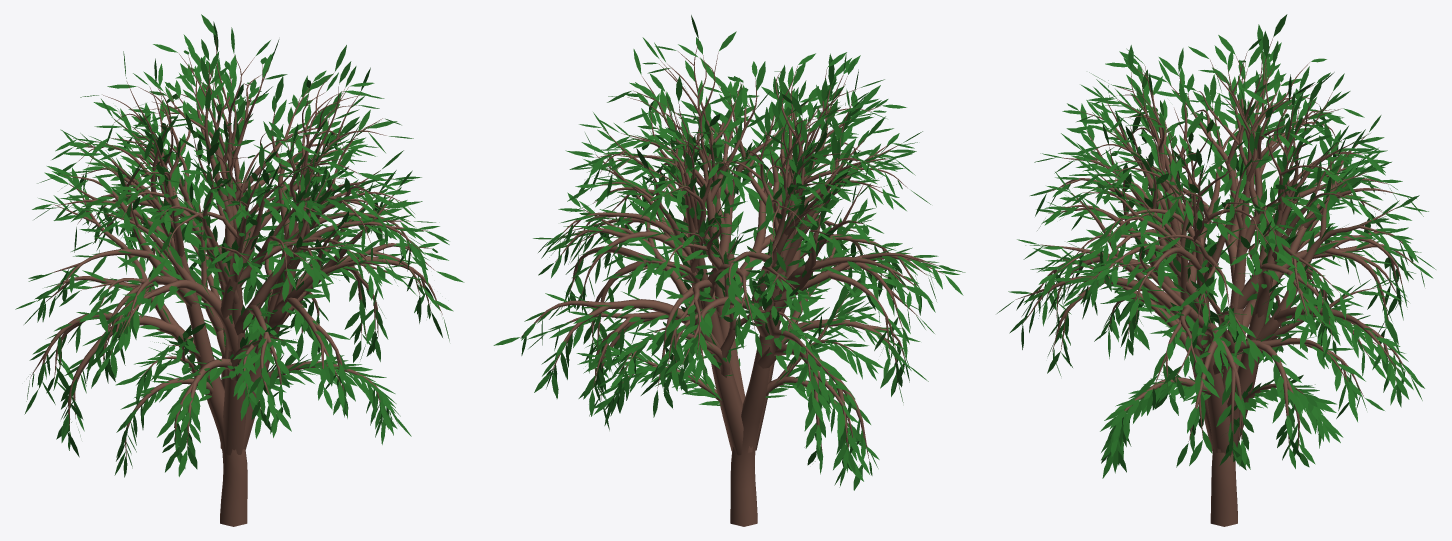
The model's file is plant_green.fbx.
The picture shows the model from 3 angles, left to right: view 1: azimuth 30°, elevation 25°; view 2: azimuth 150°, elevation 25°; view 3: azimuth 270°, elevation 25°; orthographic projection.
Visible parts, largest first — view 1: leaves, tree; view 2: leaves, tree; view 3: leaves, tree.
Part boxes in pixels (x1,y1,x2,y2): leaves: (15,14,464,477); tree: (30,36,442,526); leaves: (493,15,965,490); tree: (521,40,943,526); leaves: (997,14,1435,478); tree: (1016,37,1414,526).
Size of the model in its own units: 583 by 658 by 564.
